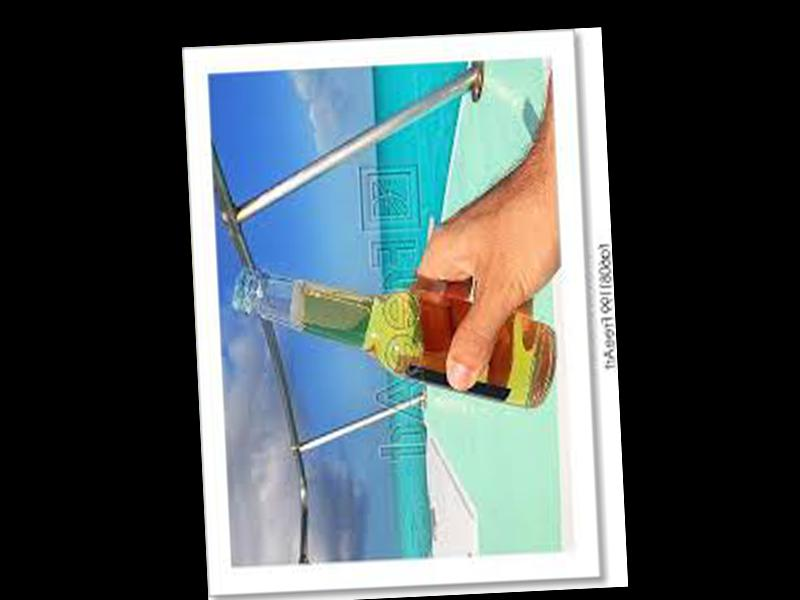Beer: (233, 245, 554, 424)
